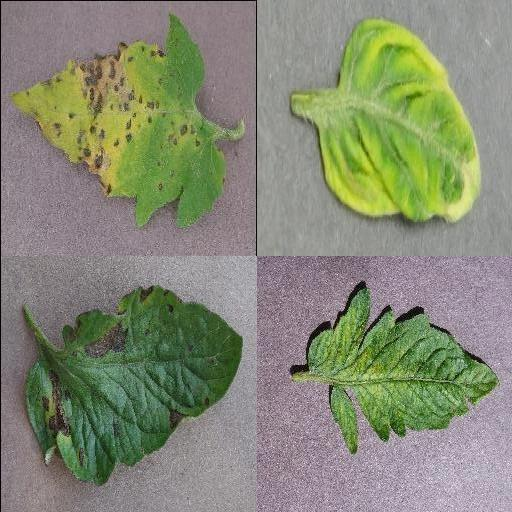Early Blight: (21, 287, 243, 487)
Mosaic Virus: (305, 288, 499, 456)
Septoria: (8, 10, 226, 231)
Yellow Leaf Curl Virus: (314, 20, 482, 222)
